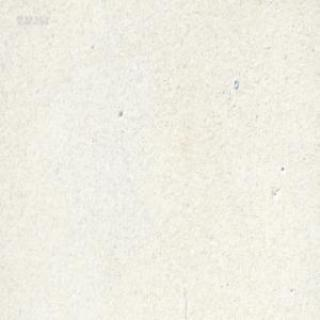Washertrack_idkeyframe: (232, 76, 238, 88)
